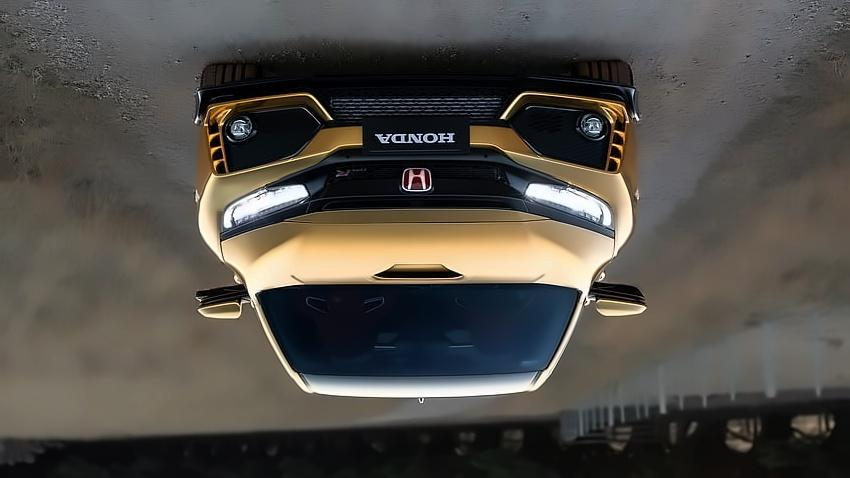Car hood: (218, 206, 617, 294)
Front bumper: (188, 66, 644, 193)
Headlight - -L-: (218, 181, 316, 239)
Headlight - -R-: (521, 178, 618, 234)
Side mirror - -L-: (192, 282, 254, 326)
Side mirror - -R-: (583, 276, 649, 320)
